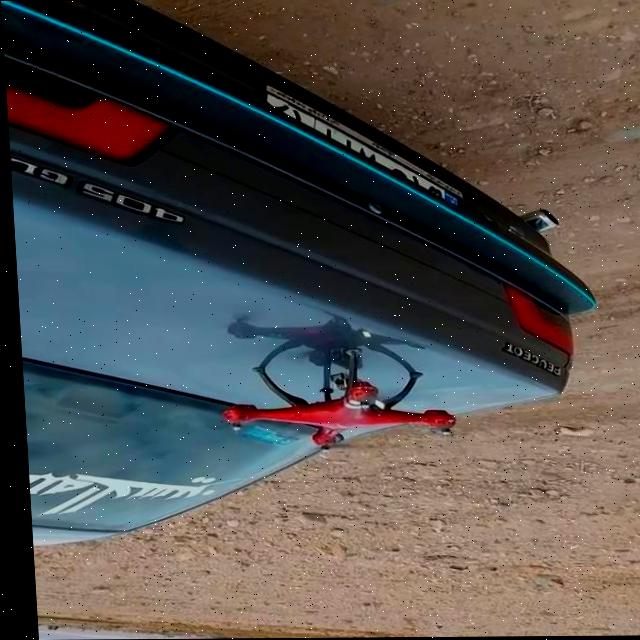drone: (192, 342, 461, 458)
